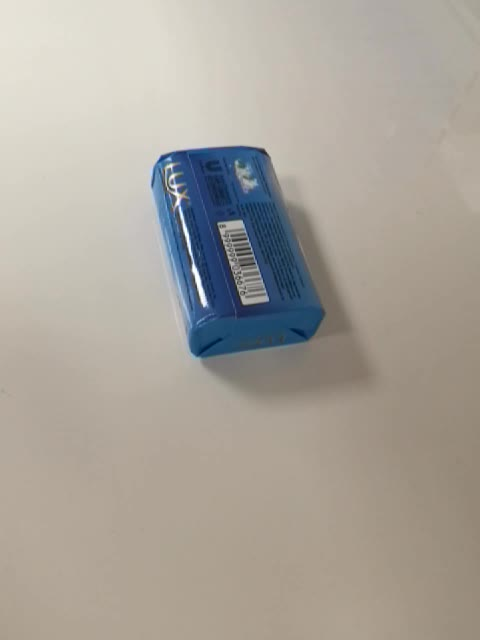soap: (149, 144, 329, 360)
